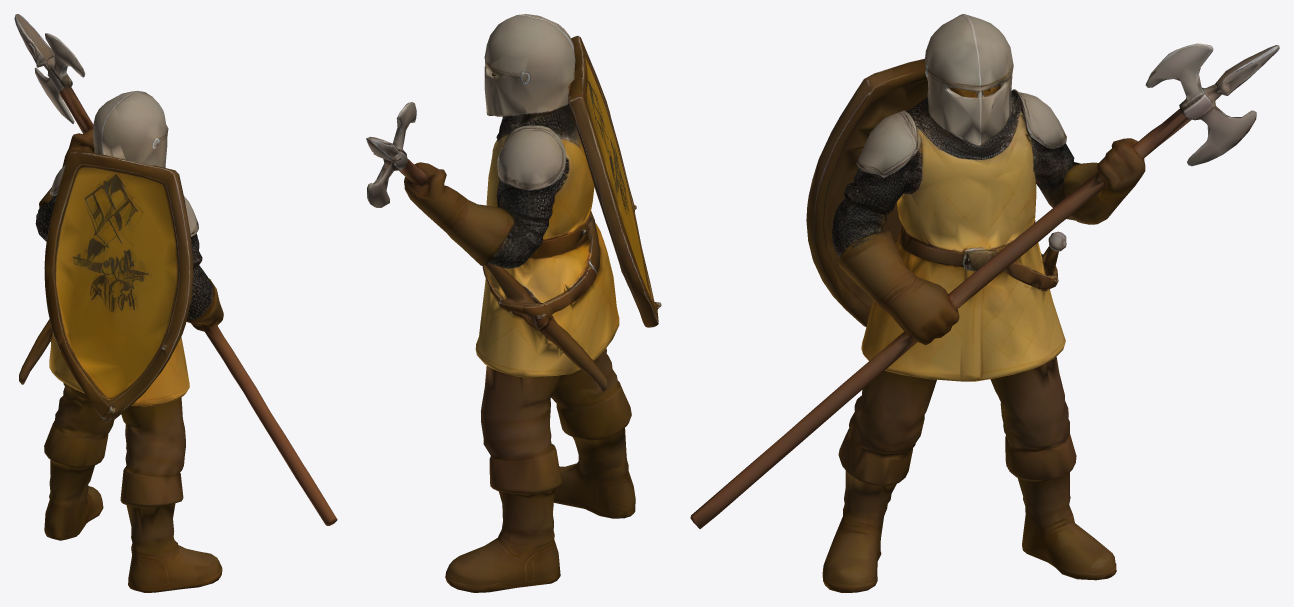
3 renders of one model, left to right at view 1: azimuth 30°, elevation 25°; view 2: azimuth 150°, elevation 25°; view 3: azimuth 270°, elevation 25°, orthographic. The views are drawn at different scales.
Visible parts, largest first — view 1: tripo_node_18f5fa29-fe74-4fcd-8c3c-00726cefc422; view 2: tripo_node_18f5fa29-fe74-4fcd-8c3c-00726cefc422; view 3: tripo_node_18f5fa29-fe74-4fcd-8c3c-00726cefc422.
Boxes of the visible parts, <box> form: tripo_node_18f5fa29-fe74-4fcd-8c3c-00726cefc422: <box>14,14,337,592</box>; tripo_node_18f5fa29-fe74-4fcd-8c3c-00726cefc422: <box>366,14,661,592</box>; tripo_node_18f5fa29-fe74-4fcd-8c3c-00726cefc422: <box>690,14,1279,592</box>.
Size of the model in its own units: 0.425 by 0.9997 by 0.9628.
1 material, 1 textured.
